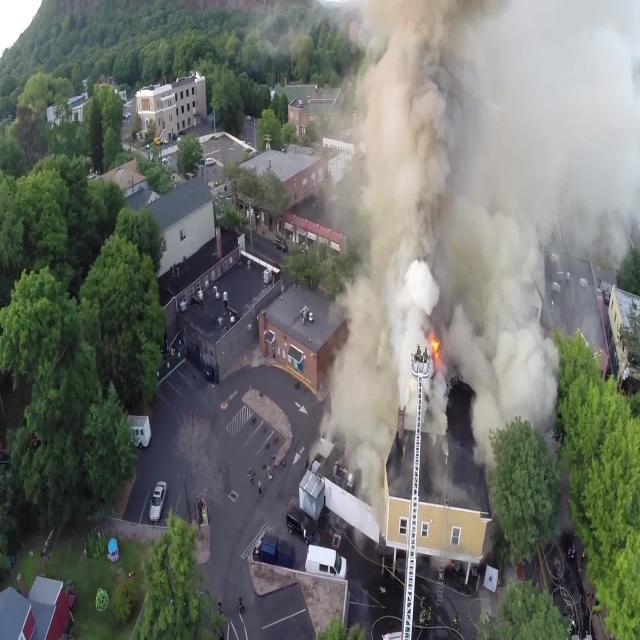Smoke: (319, 0, 640, 537)
